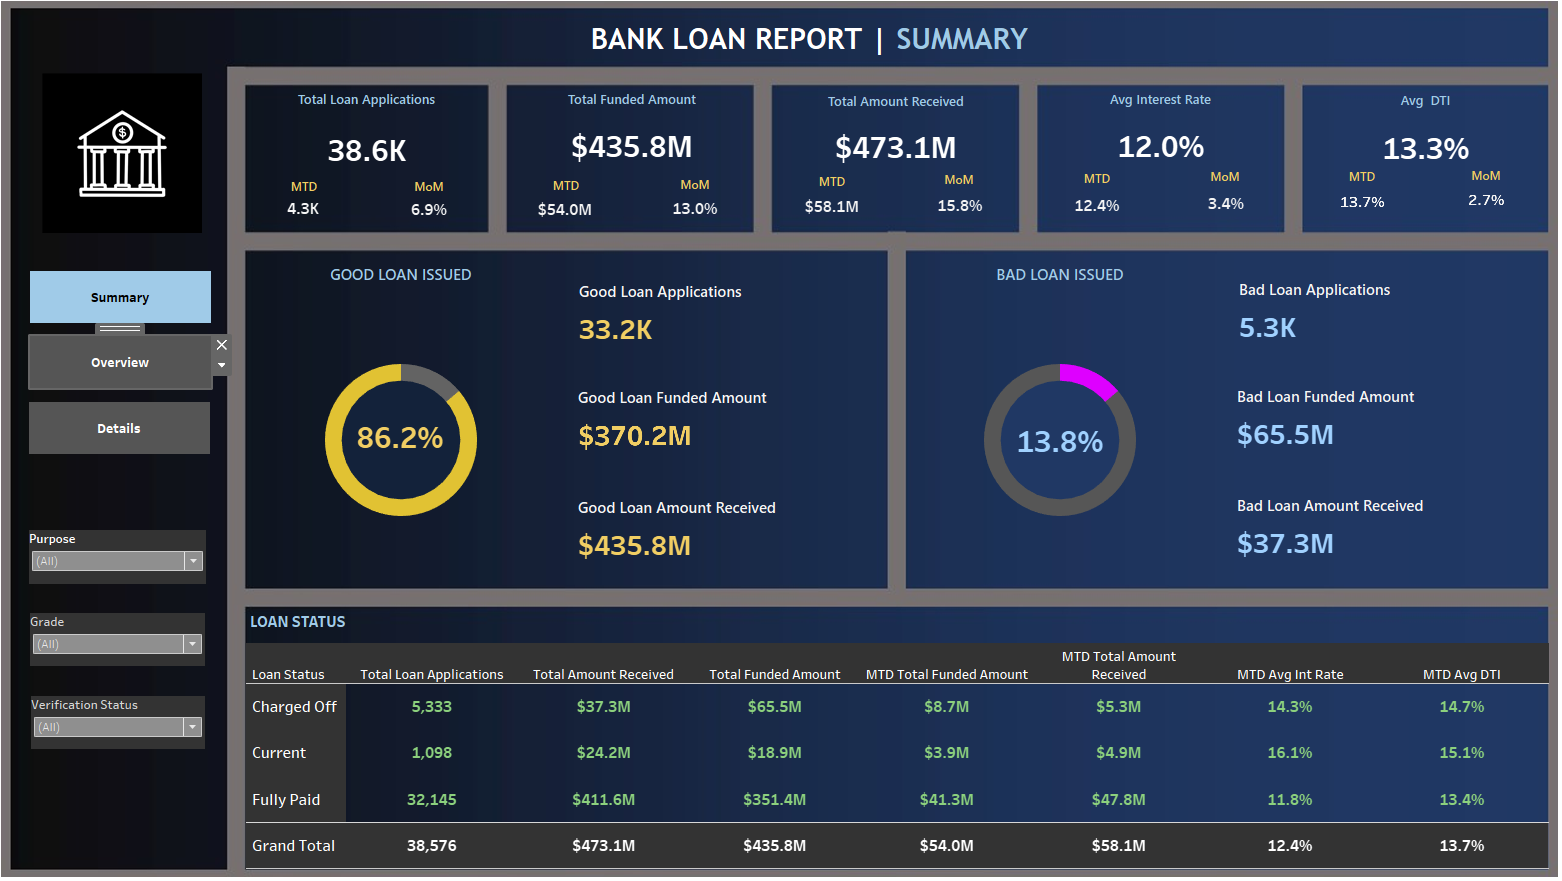

This screenshot's page, from the dashboard's own definition file:
{"tool":"tableau","page":{"name":"SUMMARY","canvas":[1600,900],"ordinal":2},"visuals":[{"type":"image","param":"D:/Projects/SQL+Tableau/Tableau Background 1.jpg","box":[8,8,1584,884]},{"type":"text","box":[608,23,449,53]},{"type":"image","param":"D:/Projects/SQL+Tableau/424650d80f6c922b00485a1fa74560f1.jpg","box":[42,84,201,160]},{"type":"worksheet","title":"Total Loan Applications","mark":"Automatic","box":[265,97,243,93]},{"type":"worksheet","title":"Total Funded Amount","mark":"Automatic","box":[526,97,252,84]},{"type":"worksheet","title":"Avg Interest Rate","mark":"Automatic","box":[1054,97,253,85]},{"type":"worksheet","title":"Avg  DTI","mark":"Automatic","box":[1322,98,247,87]},{"type":"worksheet","title":"Total Amount Received","mark":"Automatic","box":[792,99,248,82]},{"type":"text","box":[1480,172,52,29]},{"type":"text","box":[1219,173,52,29]},{"type":"text","box":[1356,173,52,29]},{"type":"text","box":[1091,175,52,29]},{"type":"text","box":[953,176,52,29]},{"type":"text","box":[826,178,52,29]},{"type":"text","box":[689,181,52,29]},{"type":"text","box":[560,182,52,29]},{"type":"text","box":[298,183,52,29]},{"type":"text","box":[423,183,52,29]},{"type":"worksheet","title":"MTD Avg DTI","mark":"Automatic","box":[1350,193,64,38]},{"type":"worksheet","title":"MoM Avg DTI","mark":"Automatic","box":[1482,194,48,31]},{"type":"worksheet","title":"MTD Avg Int Rate","mark":"Automatic","box":[1087,195,59,41]},{"type":"worksheet","title":"MTD Total Amount Received","mark":"Automatic","box":[817,196,69,41]},{"type":"worksheet","title":"MoM Total Amount Received","mark":"Automatic","box":[947,196,65,39]},{"type":"worksheet","title":"MoM Avg Int Rate","mark":"Automatic","box":[1219,196,54,35]},{"type":"worksheet","title":"MTD Total Funded Amount","mark":"Automatic","box":[553,197,64,45]},{"type":"worksheet","title":"MoM Total Funded Amount","mark":"Automatic","box":[686,197,58,43]},{"type":"worksheet","title":"MTD Total Loan Applications","mark":"Automatic","box":[286,202,74,34]},{"type":"worksheet","title":"MoM Loan Applications","mark":"Automatic","box":[420,202,58,36]},{"type":"worksheet","title":"Good Loan Issued","mark":"Pie","rows":["Calculation_2745506982253232157","Calculation_2745506982253232157"],"box":[271,271,300,325]},{"type":"worksheet","title":"Bad Loan Issued","mark":"Pie","rows":["Calculation_2745506982253232157","Calculation_2745506982253232157"],"box":[930,271,300,325]},{"type":"dashboard-object","box":[50,282,181,52]},{"type":"worksheet","title":"Bad Loan Applications","mark":"Automatic","box":[1251,282,300,75]},{"type":"worksheet","title":"Good Loan Applications","mark":"Automatic","box":[591,284,300,75]},{"type":"dashboard-object","box":[50,347,181,52]},{"type":"worksheet","title":"Bad Loan Funded Amount","mark":"Automatic","box":[1249,389,300,75]},{"type":"worksheet","title":"Good Loan Funded Amount","mark":"Automatic","box":[590,390,300,75]},{"type":"worksheet","title":"Bad Loan Application %","mark":"Automatic","box":[1030,400,99,85]},{"type":"worksheet","title":"Good Loan Application %","mark":"Automatic","box":[370,406,99,82]},{"type":"dashboard-object","box":[49,413,181,52]},{"type":"worksheet","title":"Bad Loan Amount Received","mark":"Automatic","box":[1249,498,300,75]},{"type":"worksheet","title":"Good Loan Amount Received","mark":"Automatic","box":[590,500,300,75]},{"type":"filter","title":"Good Loan Issued","param":"[federated.0qi6f7n025kvux1dmza5b0lfinns].[none:purpose:nk]","box":[49,541,177,54]},{"type":"worksheet","title":"LOAN STATUS","mark":"Automatic","rows":["loan_status"],"box":[266,618,1303,262]},{"type":"filter","title":"Good Loan Issued","param":"[federated.0qi6f7n025kvux1dmza5b0lfinns].[none:grade:nk]","box":[50,624,175,53]},{"type":"filter","title":"Good Loan Issued","param":"[federated.0qi6f7n025kvux1dmza5b0lfinns].[none:verification_status:nk]","box":[51,707,174,53]}]}

Visuals, with their boxes in screenshot pixels (x1, y1, x2, y2), scaled from the page's 1600x900 canvas onto the 1562x881 screenshot:
image: [x1=8, y1=8, x2=1554, y2=873]
text: [x1=594, y1=23, x2=1032, y2=74]
image: [x1=41, y1=82, x2=237, y2=239]
"Total Loan Applications" worksheet: [x1=259, y1=95, x2=496, y2=186]
"Total Funded Amount" worksheet: [x1=514, y1=95, x2=760, y2=177]
"Avg Interest Rate" worksheet: [x1=1029, y1=95, x2=1276, y2=178]
"Avg  DTI" worksheet: [x1=1291, y1=96, x2=1532, y2=181]
"Total Amount Received" worksheet: [x1=773, y1=97, x2=1015, y2=177]
text: [x1=1445, y1=168, x2=1496, y2=197]
text: [x1=1190, y1=169, x2=1241, y2=198]
text: [x1=1324, y1=169, x2=1375, y2=198]
text: [x1=1065, y1=171, x2=1116, y2=200]
text: [x1=930, y1=172, x2=981, y2=201]
text: [x1=806, y1=174, x2=857, y2=203]
text: [x1=673, y1=177, x2=723, y2=206]
text: [x1=547, y1=178, x2=597, y2=207]
text: [x1=291, y1=179, x2=342, y2=208]
text: [x1=413, y1=179, x2=464, y2=208]
"MTD Avg DTI" worksheet: [x1=1318, y1=189, x2=1380, y2=226]
"MoM Avg DTI" worksheet: [x1=1447, y1=190, x2=1494, y2=220]
"MTD Avg Int Rate" worksheet: [x1=1061, y1=191, x2=1119, y2=231]
"MTD Total Amount Received" worksheet: [x1=798, y1=192, x2=865, y2=232]
"MoM Total Amount Received" worksheet: [x1=925, y1=192, x2=988, y2=230]
"MoM Avg Int Rate" worksheet: [x1=1190, y1=192, x2=1243, y2=226]
"MTD Total Funded Amount" worksheet: [x1=540, y1=193, x2=602, y2=237]
"MoM Total Funded Amount" worksheet: [x1=670, y1=193, x2=726, y2=235]
"MTD Total Loan Applications" worksheet: [x1=279, y1=198, x2=351, y2=231]
"MoM Loan Applications" worksheet: [x1=410, y1=198, x2=467, y2=233]
"Good Loan Issued" worksheet (Pie marks): [x1=265, y1=265, x2=557, y2=583]
"Bad Loan Issued" worksheet (Pie marks): [x1=908, y1=265, x2=1201, y2=583]
dashboard-object: [x1=49, y1=276, x2=226, y2=327]
"Bad Loan Applications" worksheet: [x1=1221, y1=276, x2=1514, y2=349]
"Good Loan Applications" worksheet: [x1=577, y1=278, x2=870, y2=351]
dashboard-object: [x1=49, y1=340, x2=226, y2=391]
"Bad Loan Funded Amount" worksheet: [x1=1219, y1=381, x2=1512, y2=454]
"Good Loan Funded Amount" worksheet: [x1=576, y1=382, x2=869, y2=455]
"Bad Loan Application %" worksheet: [x1=1006, y1=392, x2=1102, y2=475]
"Good Loan Application %" worksheet: [x1=361, y1=397, x2=458, y2=478]
dashboard-object: [x1=48, y1=404, x2=225, y2=455]
"Bad Loan Amount Received" worksheet: [x1=1219, y1=487, x2=1512, y2=561]
"Good Loan Amount Received" worksheet: [x1=576, y1=489, x2=869, y2=563]
"Good Loan Issued" filter: [x1=48, y1=530, x2=221, y2=582]
"LOAN STATUS" worksheet: [x1=260, y1=605, x2=1532, y2=861]
"Good Loan Issued" filter: [x1=49, y1=611, x2=220, y2=663]
"Good Loan Issued" filter: [x1=50, y1=692, x2=220, y2=744]
